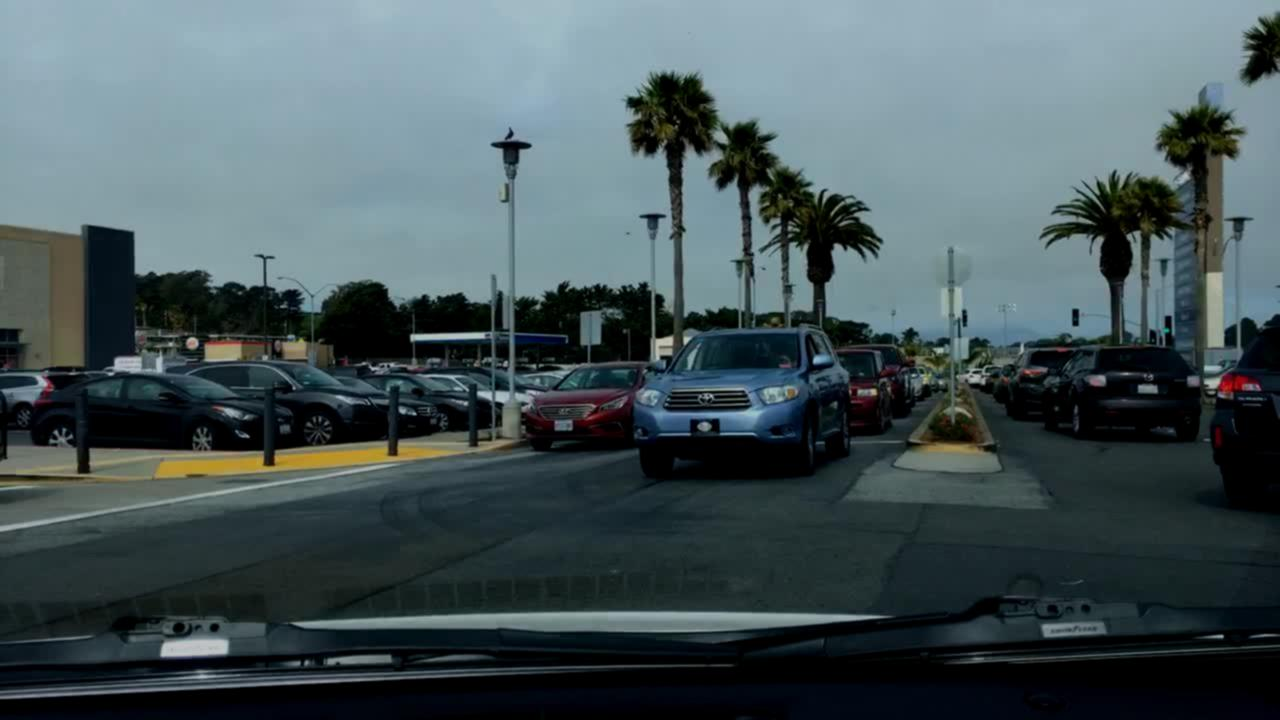Mazda: (1139, 370, 1157, 385)
Toyota: (696, 389, 716, 408)
